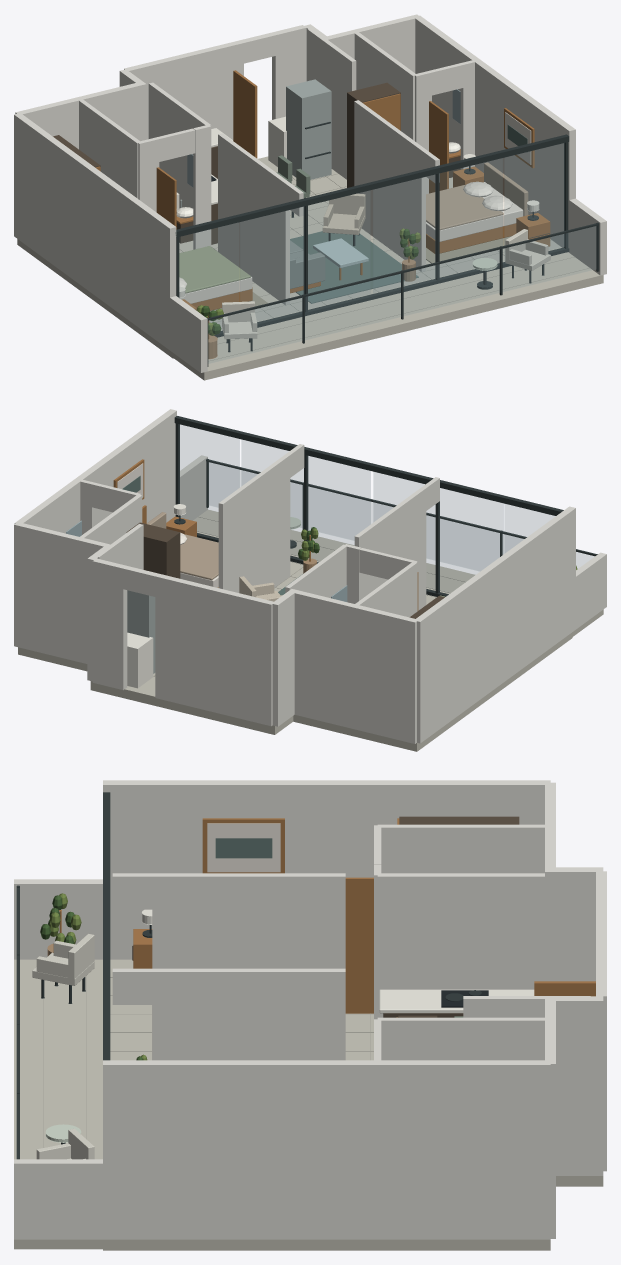
The model's file is eco-egana-interior.glb.
3 renders of one model, top to bottom at view 1: azimuth 30°, elevation 25°; view 2: azimuth 150°, elevation 25°; view 3: azimuth 270°, elevation 25°, orthographic. The views are drawn at different scales.
Visible parts, largest first — view 1: Windows_Terrace, Wall_external_left, Terrace_Glass_Railing, Floor_Terrace, Wall_external_right, Wall_bedroom_primary_divider, Wall_bedroom_secondary_divider, Floor_Interior, Furniture_bed_secondary, Wall_entry_rear_left, Kitchen_Appliances, Area_Rugs (+34 smaller); view 2: Windows_Terrace, Wall_external_left, Wall_rear_left, Wall_entry_rear_left, Wall_rear_right, Terrace_Glass_Railing, Wall_bedroom_secondary_divider, Wall_external_right, Floor_Interior, Wall_entry_rear_right, Wall_bedroom_primary_divider, Wall_entry_left_return (+20 smaller); view 3: Wall_external_right, Wall_external_left, Wall_kitchen_left_back, Wall_bedroom_primary_divider, Wall_bedroom_secondary_divider, Floor_Terrace, Floor_Interior, Wall_entry_right_return, Wall_bath_primary_side, Wall_terrace_right, Wall_bath_secondary_side, Wall_entry_left_return (+20 smaller).
Boxes of the visible parts, x1,y1,x2,y2 form: Windows_Terrace: (175,134,569,337); Wall_external_left: (14,114,176,348); Terrace_Glass_Railing: (207,222,599,366); Floor_Terrace: (171,252,603,380); Wall_external_right: (414,15,575,247); Wall_bedroom_primary_divider: (218,133,289,305); Wall_bedroom_secondary_divider: (354,100,425,271); Floor_Interior: (17,156,561,358); Furniture_bed_secondary: (426,162,528,253); Wall_entry_rear_left: (124,40,243,140); Kitchen_Appliances: (211,79,331,181); Area_Rugs: (210,231,511,311); Windows_Terrace: (174,416,563,596); Wall_external_left: (414,506,575,743); Wall_rear_left: (291,589,417,743); Wall_entry_rear_left: (155,573,273,726); Wall_rear_right: (14,522,109,663); Terrace_Glass_Railing: (206,458,597,570); Wall_bedroom_secondary_divider: (218,454,290,592); Wall_external_right: (14,409,176,533); Floor_Interior: (18,561,572,751); Wall_entry_rear_right: (92,558,127,690); Wall_bedroom_primary_divider: (354,487,426,610); Wall_entry_left_return: (272,589,297,726); Wall_external_right: (103,1060,550,1239); Wall_external_left: (103,780,550,959); Wall_kitchen_left_back: (377,873,544,1017); Wall_bedroom_primary_divider: (152,873,345,968); Wall_bedroom_secondary_divider: (152,968,345,1060); Floor_Terrace: (14,959,108,1249); Floor_Interior: (103,959,603,1250); Wall_entry_right_return: (545,996,603,1175); Wall_bath_primary_side: (377,824,544,873); Wall_terrace_right: (14,1159,108,1239); Wall_bath_secondary_side: (377,1017,544,1060); Wall_entry_left_return: (545,867,603,981).
Size of the model in its own units: 9.25 by 2.85 by 8.15.
